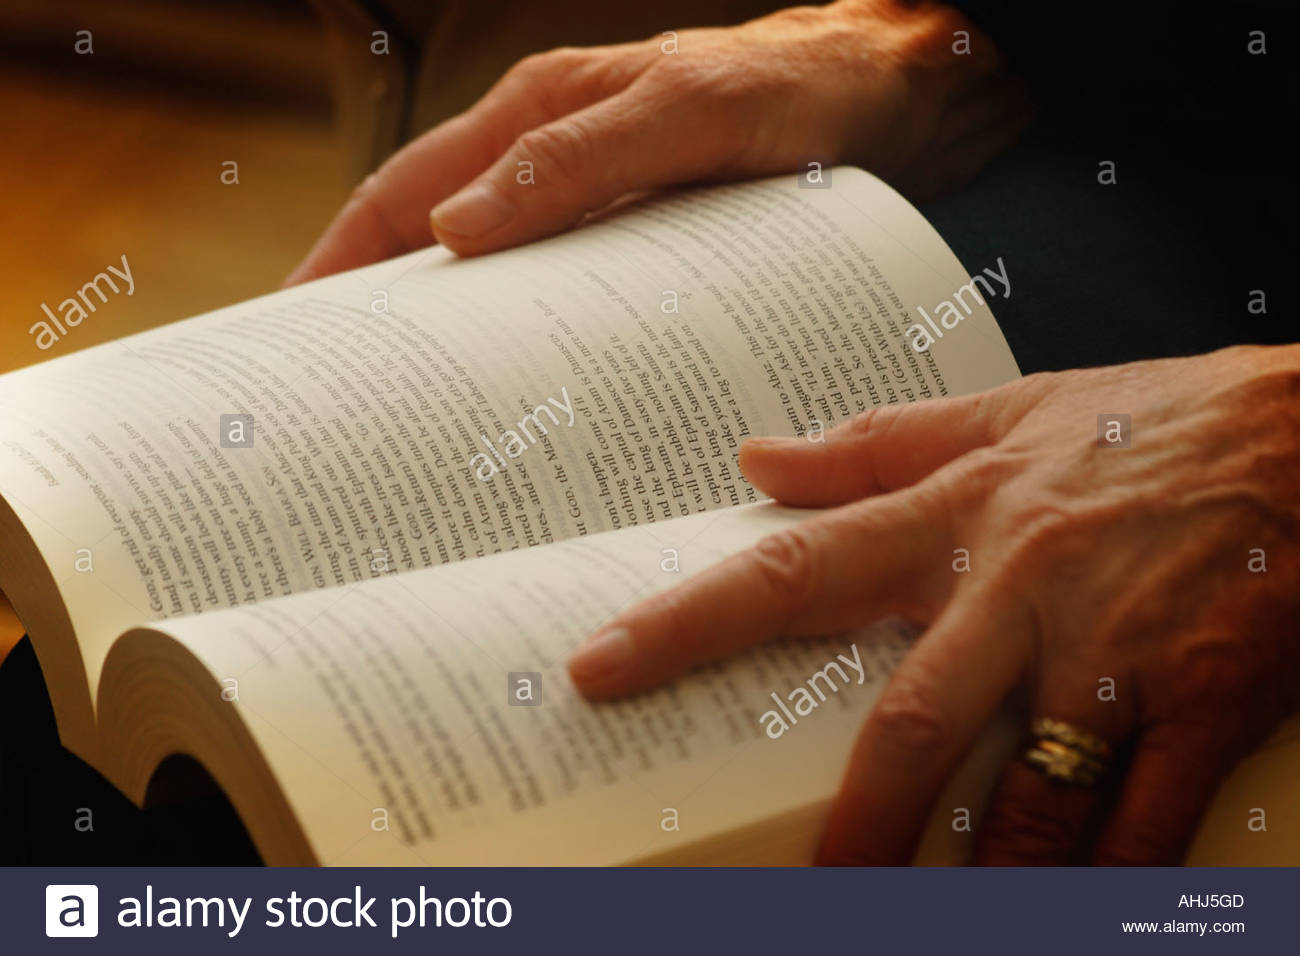Open Book: (5, 177, 1153, 860)
